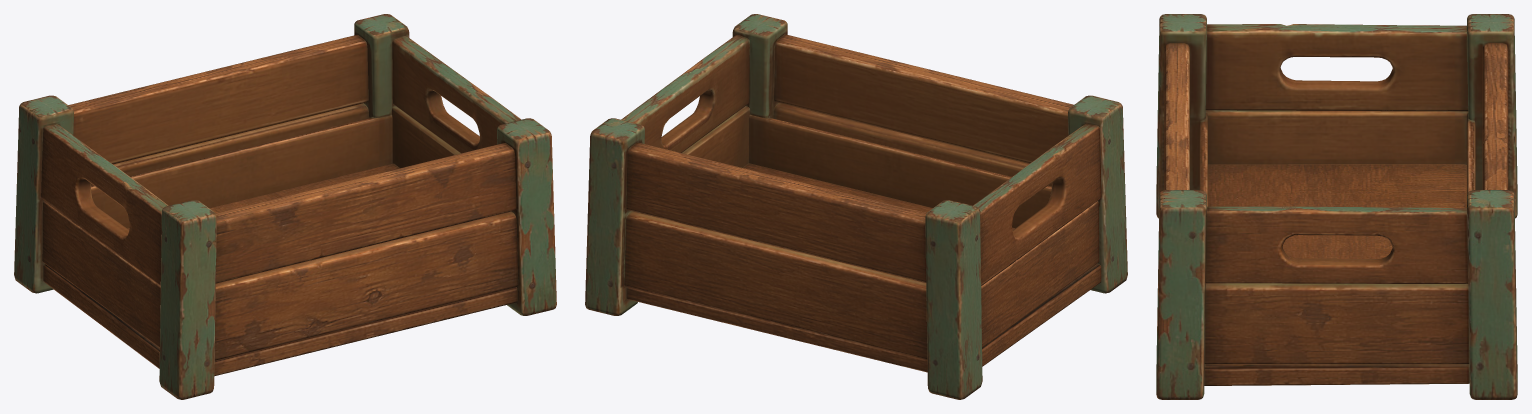
The model's file is P79_wood_supply_crate_Runtime_1k.glb.
The picture shows the model from 3 angles, left to right: view 1: azimuth 30°, elevation 25°; view 2: azimuth 150°, elevation 25°; view 3: azimuth 270°, elevation 25°; orthographic projection. The views are drawn at different scales.
Parts seen in each view (by area): view 1: tripo_node_29d48a32; view 2: tripo_node_29d48a32; view 3: tripo_node_29d48a32.
Part boxes in pixels (x1,y1,x2,y2): tripo_node_29d48a32: [14, 14, 556, 399]; tripo_node_29d48a32: [585, 14, 1127, 399]; tripo_node_29d48a32: [1156, 14, 1517, 399].
Bounding box in the file's own units: 0.61 × 0.2739 × 0.4676.
1 material, 1 textured.
